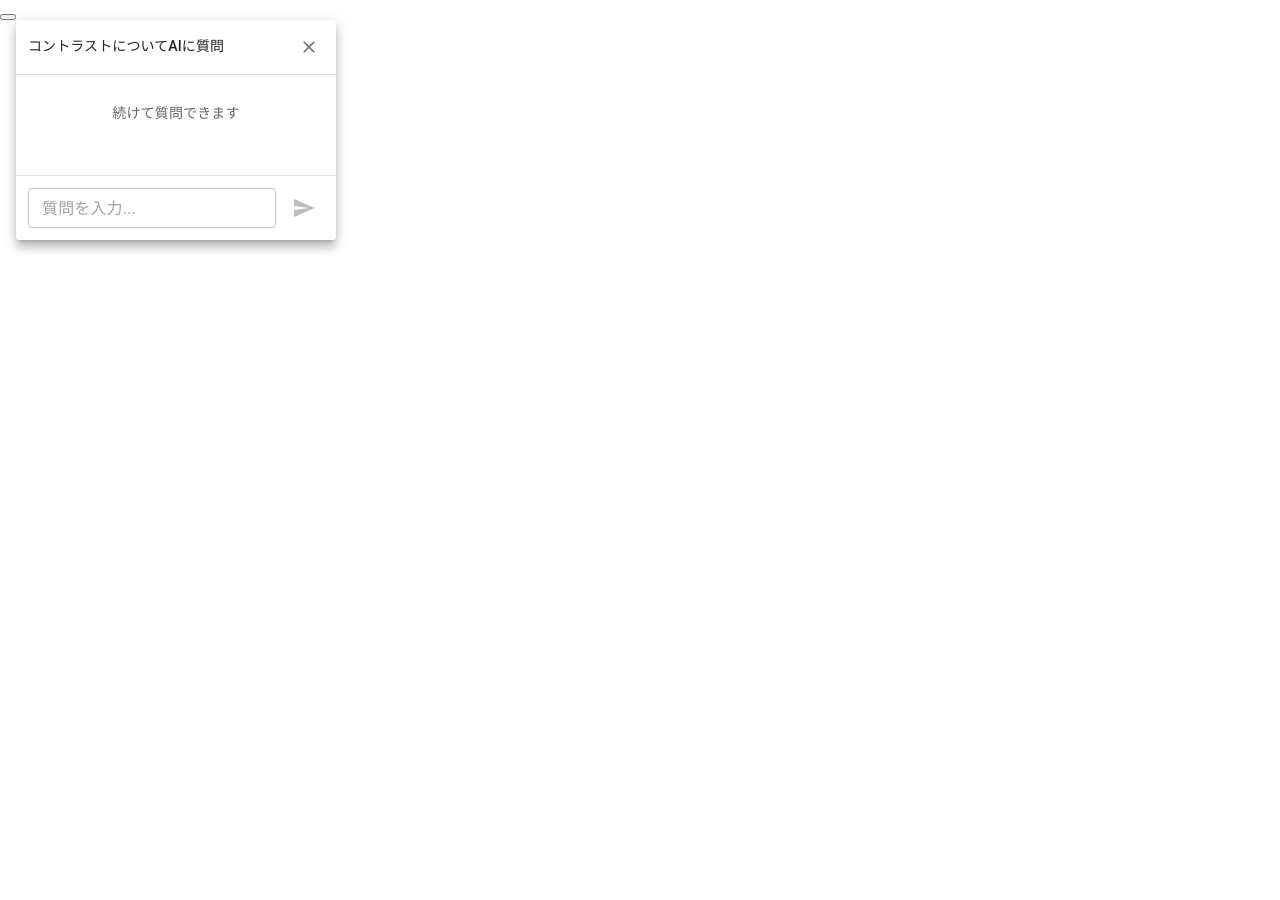
Scenario: AIChatPopover › エラー状態 › should show error message and retry button on error
Type "テスト質問" into the field labelled "質問を入力...".
click(152, 208); type("テスト質問")  # box [28,188,276,228]
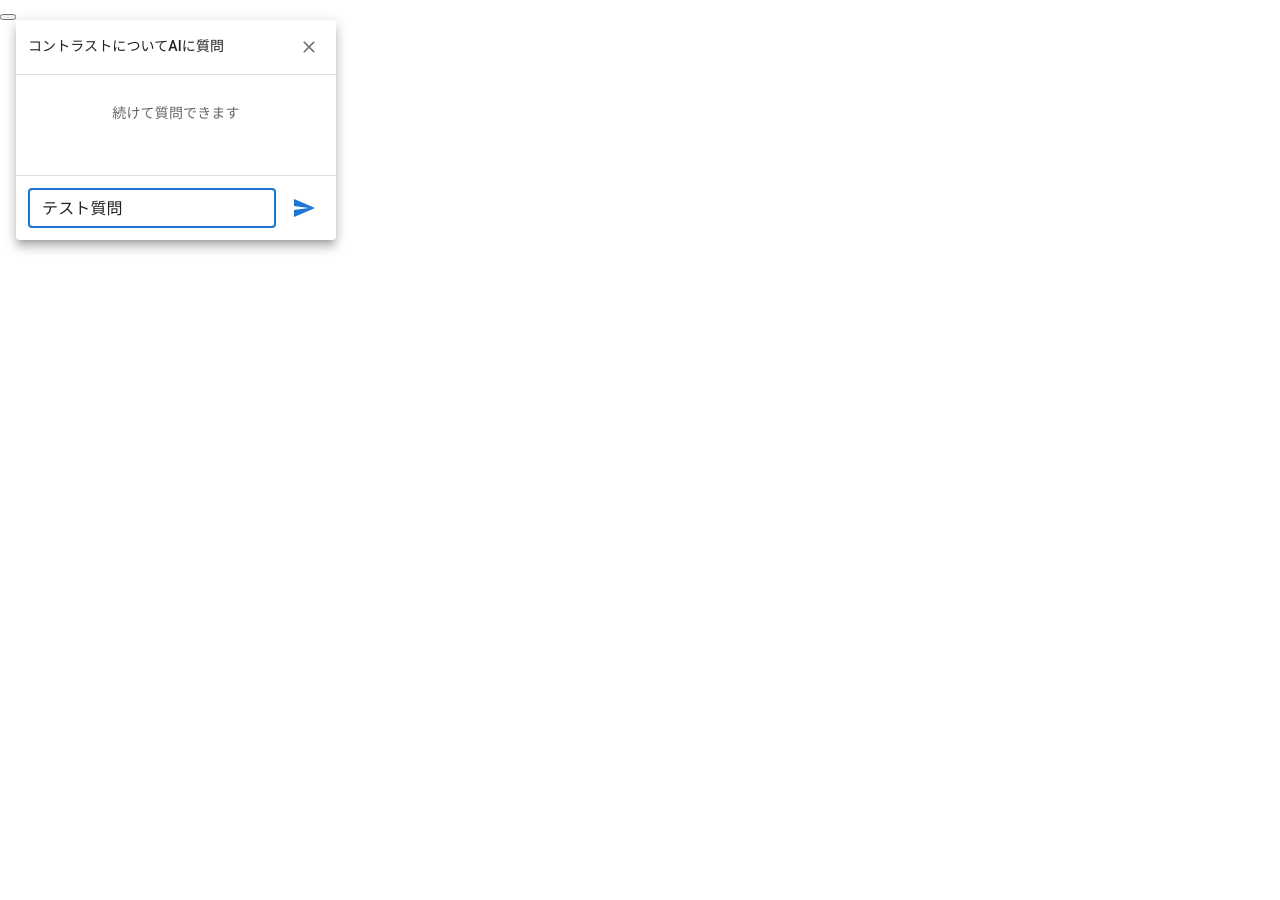
Click the button named "送信".
click(304, 208)  # box [284,188,324,228]
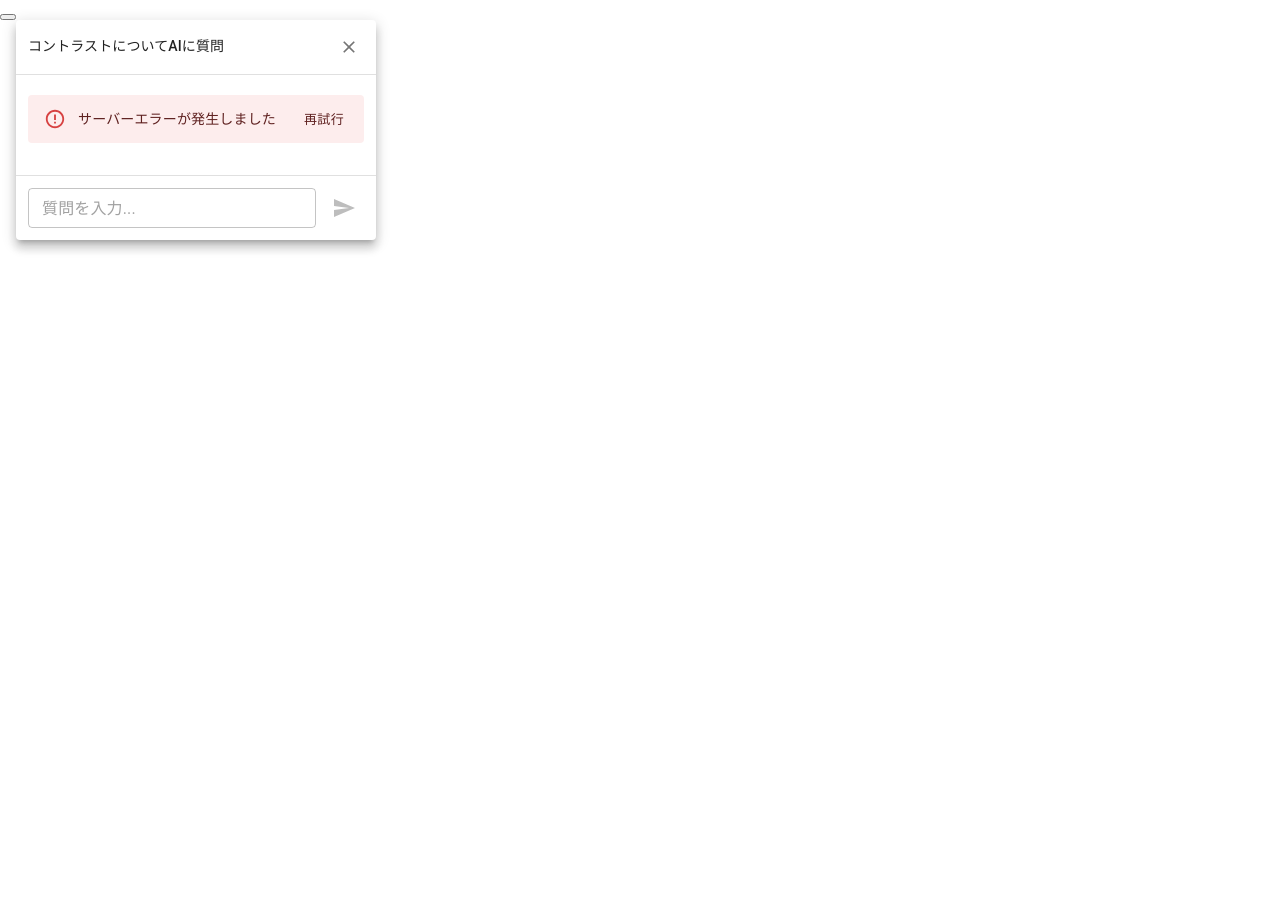
expect the text "サーバーエラーが発生しました" is shown: met, box [78,111,276,127]
expect the button "再試行" is shown: met, box [292,105,356,136]
